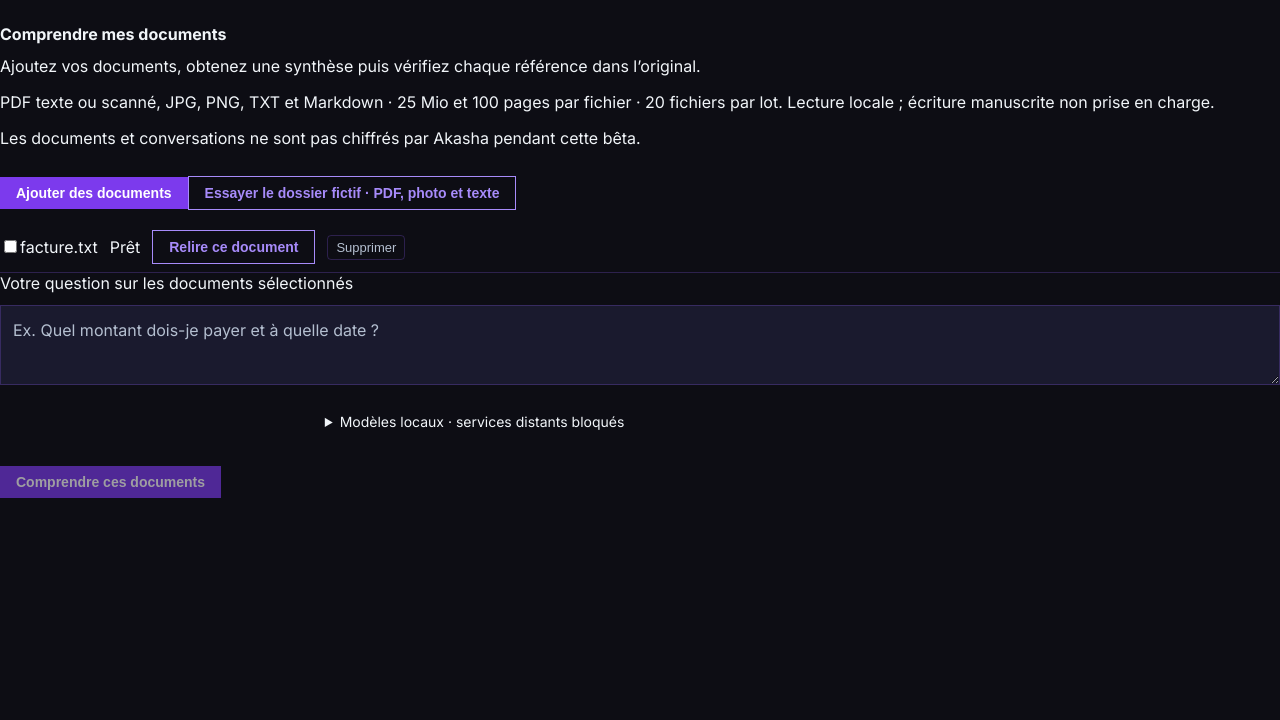
Test: opens the original selected source after a real task result is received
The width and height of the screenshot is (1280, 720).
Click the checkbox labelled "facture.txt". click: (10, 246)
box: [4,240,17,253]
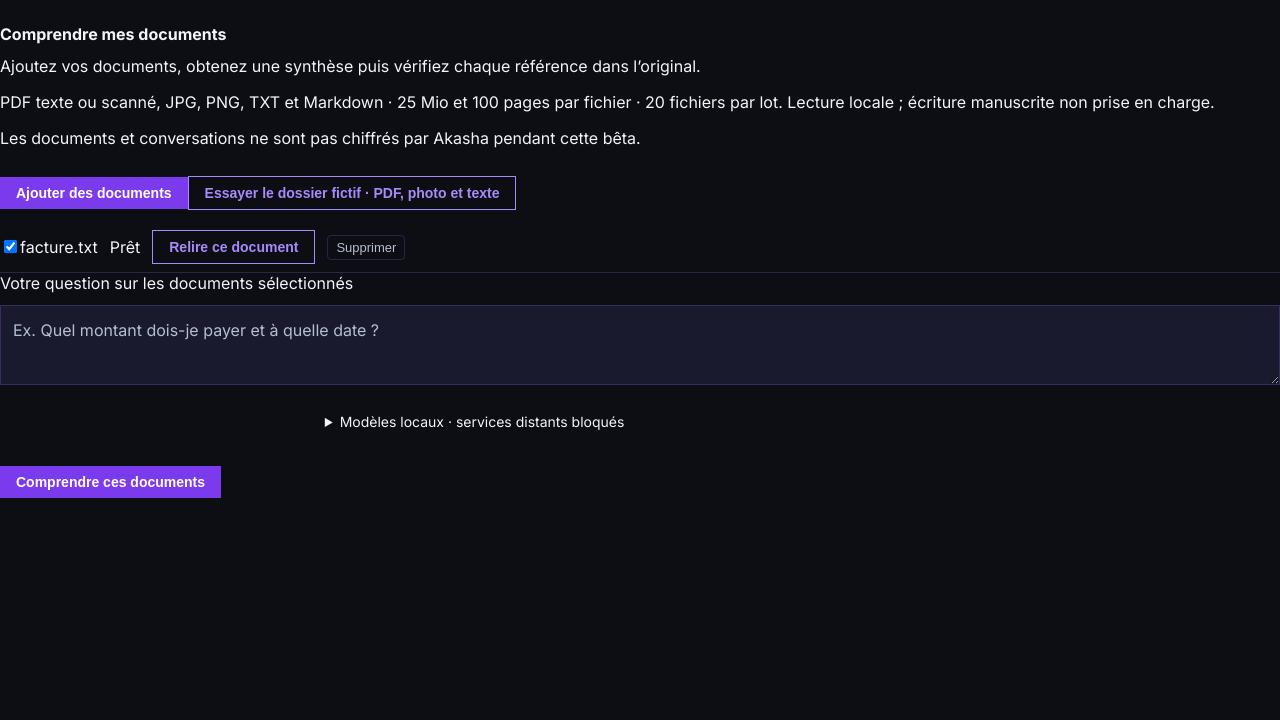
Type "Quel montant ?" into the text box labelled "Votre question sur les documents sélectionnés". click: (640, 345)
box: [0,305,1279,385]
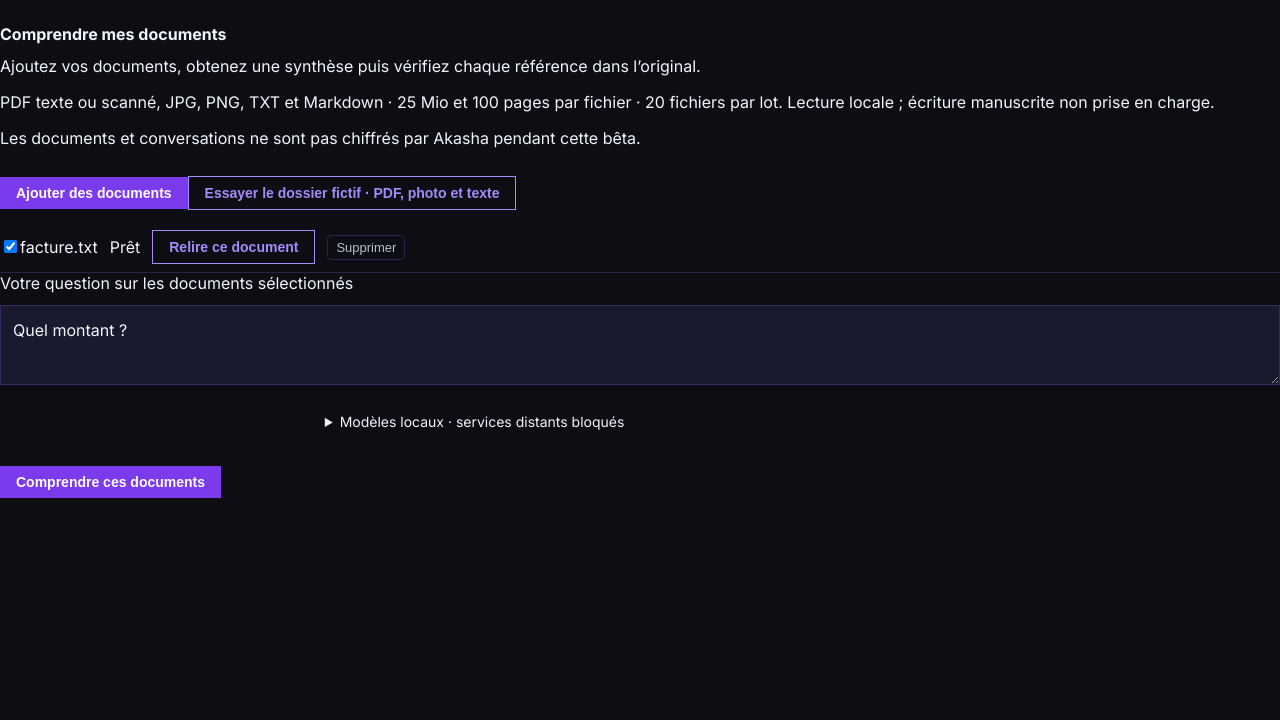
Click the button "Comprendre ces documents". click: (111, 482)
box: [0,466,221,498]
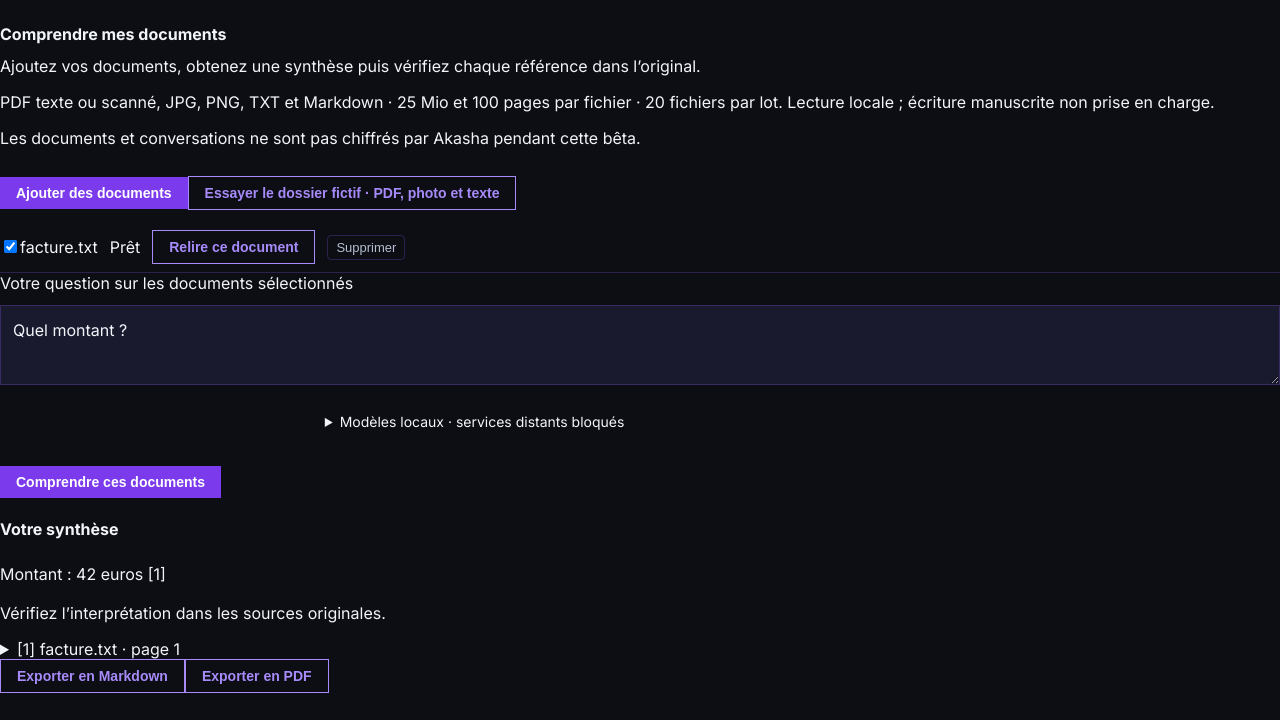
Check: the text "Montant : 42 euros [1]" is shown, box [0,564,166,584]
Click the heading "[1] facture.txt · page 1". click: (98, 649)
box: [17,639,180,659]
(page scrolled)
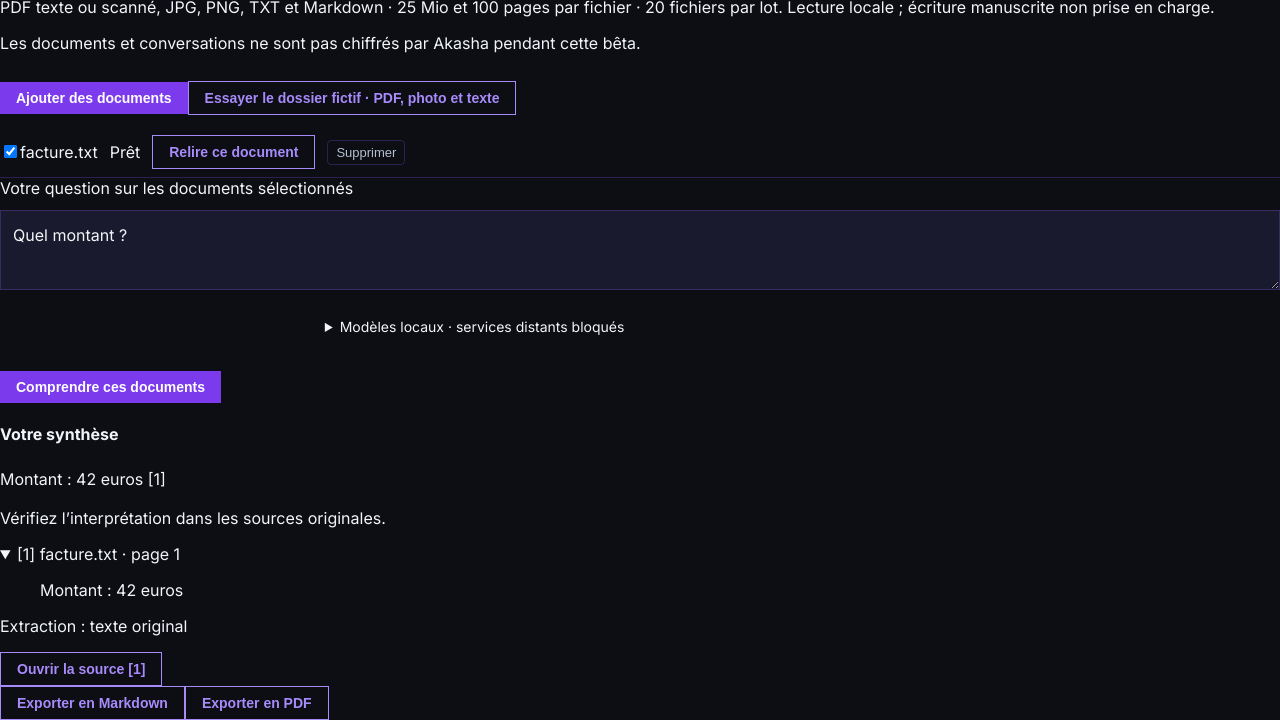
Click the button "Ouvrir la source [1]". click: (81, 669)
box: [0,652,162,686]
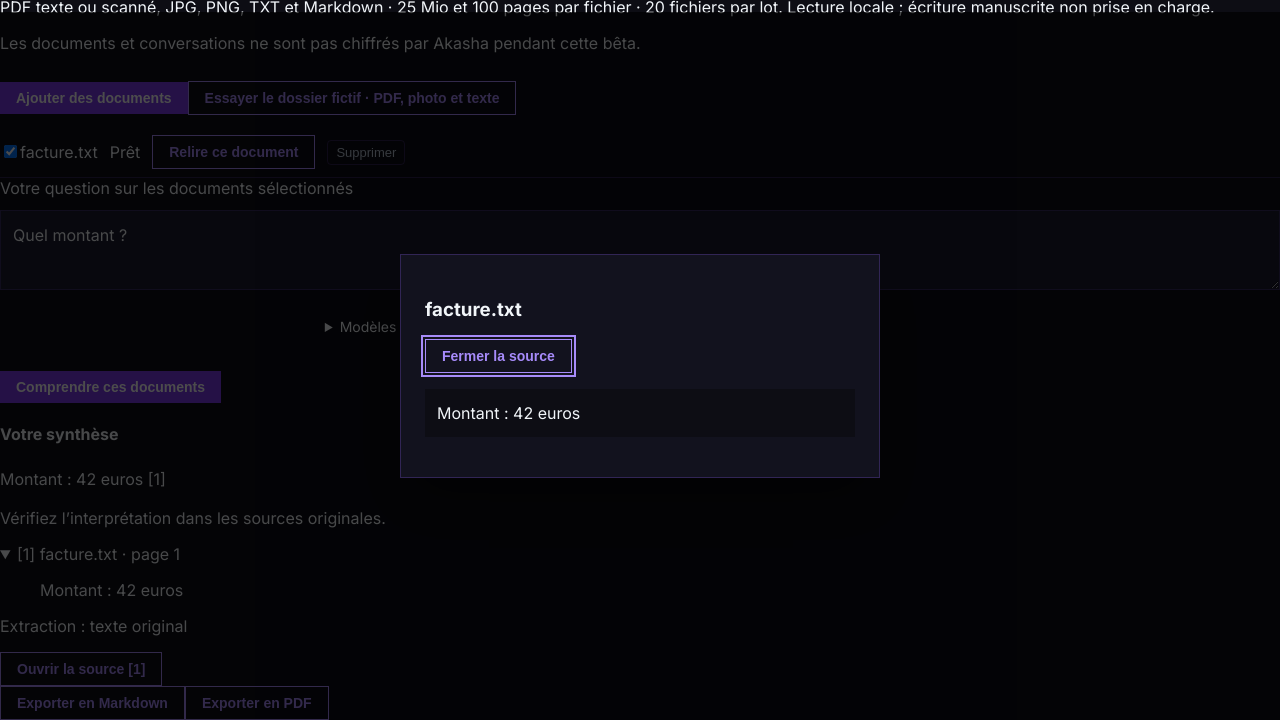
Check: the dialog "facture.txt" is shown
Check: the button "Fermer la source" is shown, box [425,339,572,373]
